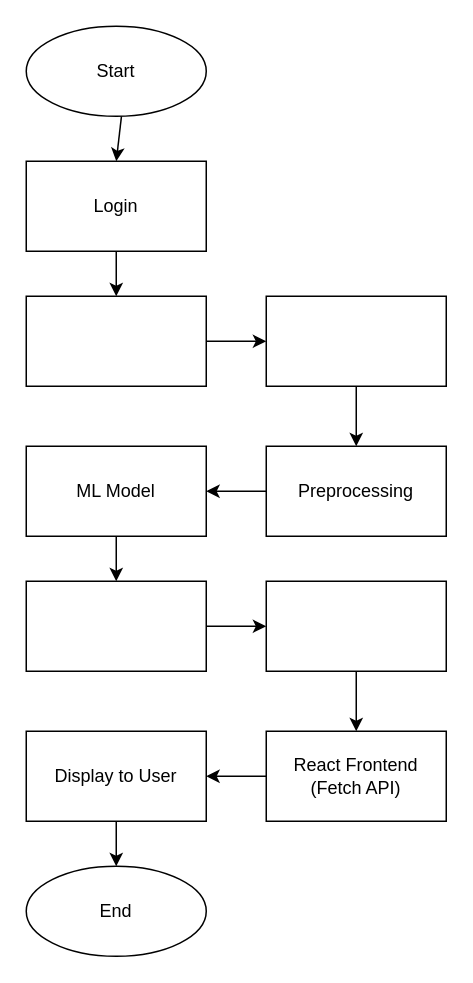
Some shapes in this 473 by 983 pixel diagram are drawn without their labels. Each missing label, with the centre of its shape:
"Prediction Result" goes at point 115,625.
"Python API Response" goes at point 355,625.
"Python Backend (API)" goes at point 355,340.
"Source Data (sales_data.csv)" goes at point 115,340.
